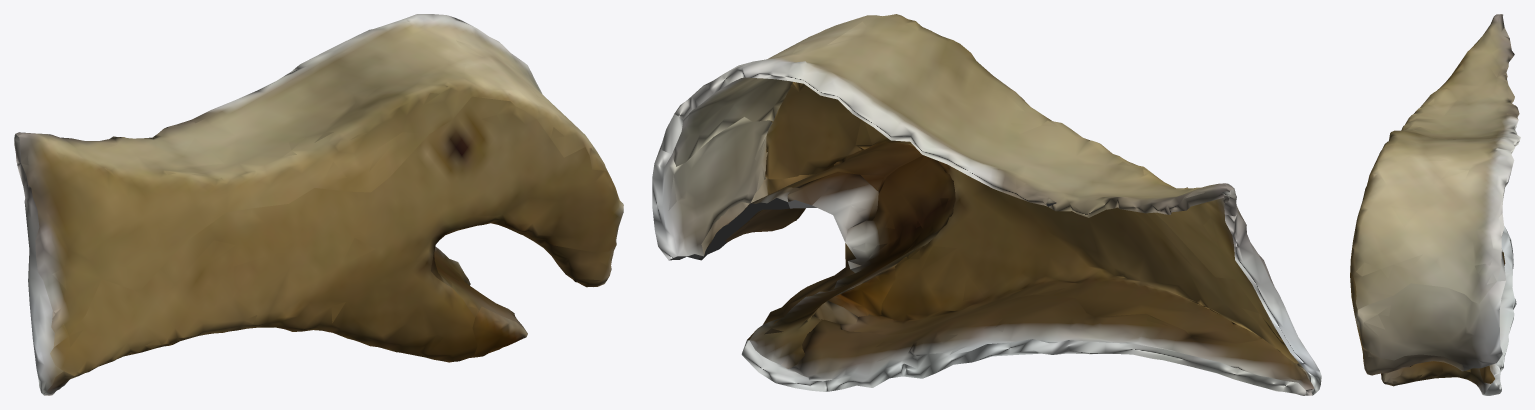
Rendered from twistfish.glb.
The picture shows the model from 3 angles, left to right: view 1: azimuth 30°, elevation 25°; view 2: azimuth 150°, elevation 25°; view 3: azimuth 270°, elevation 25°; orthographic projection. The views are drawn at different scales.
Parts seen in each view (by area): view 1: mesh.002; view 2: mesh.002; view 3: mesh.002.
Part boxes in pixels (left/top/right/bottom): mesh.002: left=14, top=14, right=623, bottom=395; mesh.002: left=652, top=14, right=1321, bottom=395; mesh.002: left=1350, top=14, right=1520, bottom=395.
Size of the model in its own units: 0.8554 by 0.4357 by 0.2872.
1 material, 1 textured.
